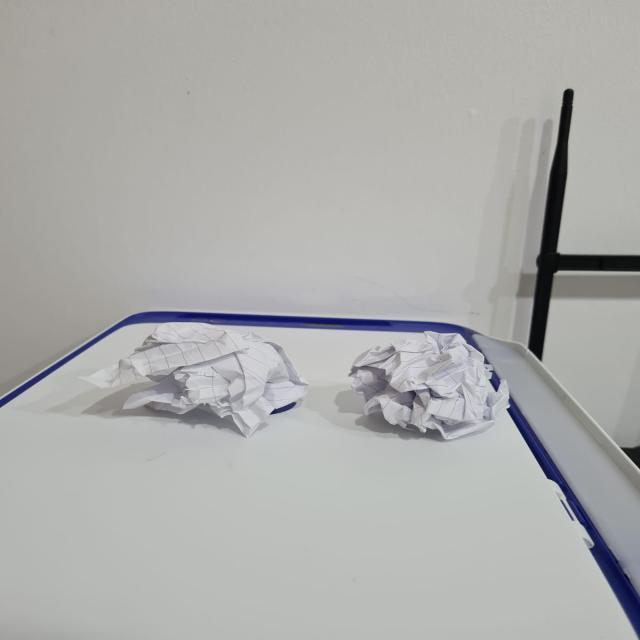Paper: (74, 324, 306, 433), (333, 335, 508, 441)
